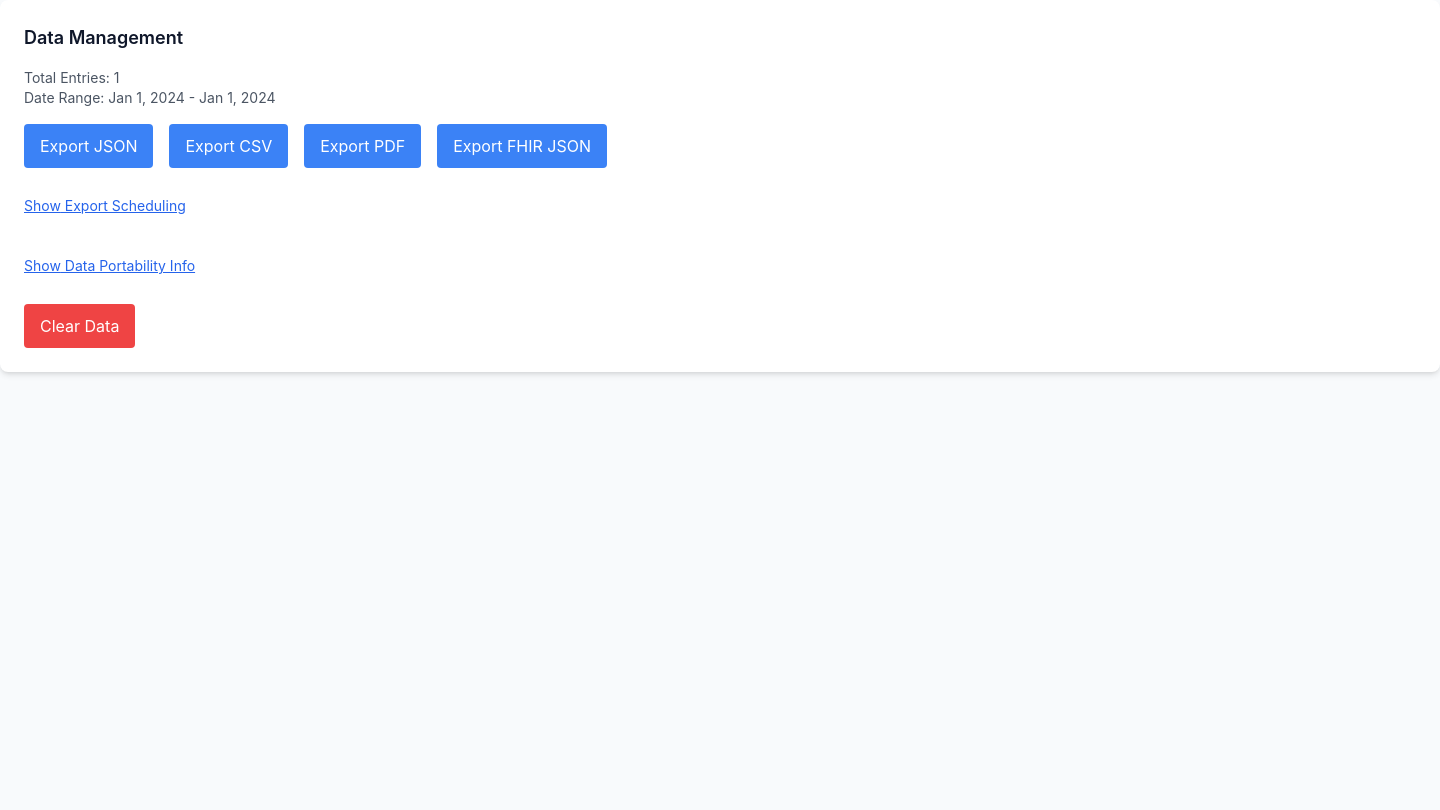
Scenario: SavePanel › hides confirmation dialog when cancelled
The image size is (1440, 810).
Click the button "Clear Data" at [80, 326], box [24,304,135,348]
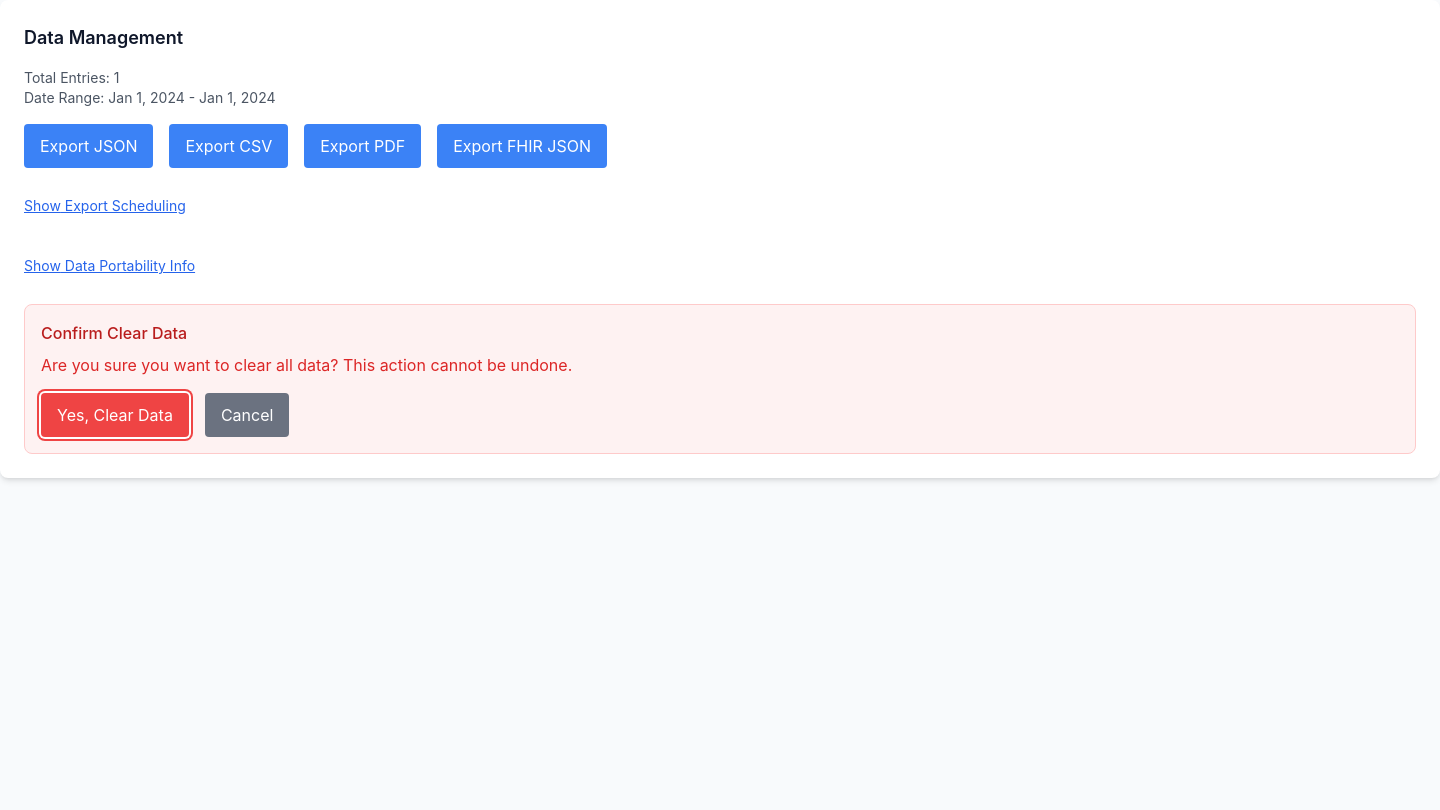
Click the button "Cancel" at [247, 415], box [205,393,289,437]
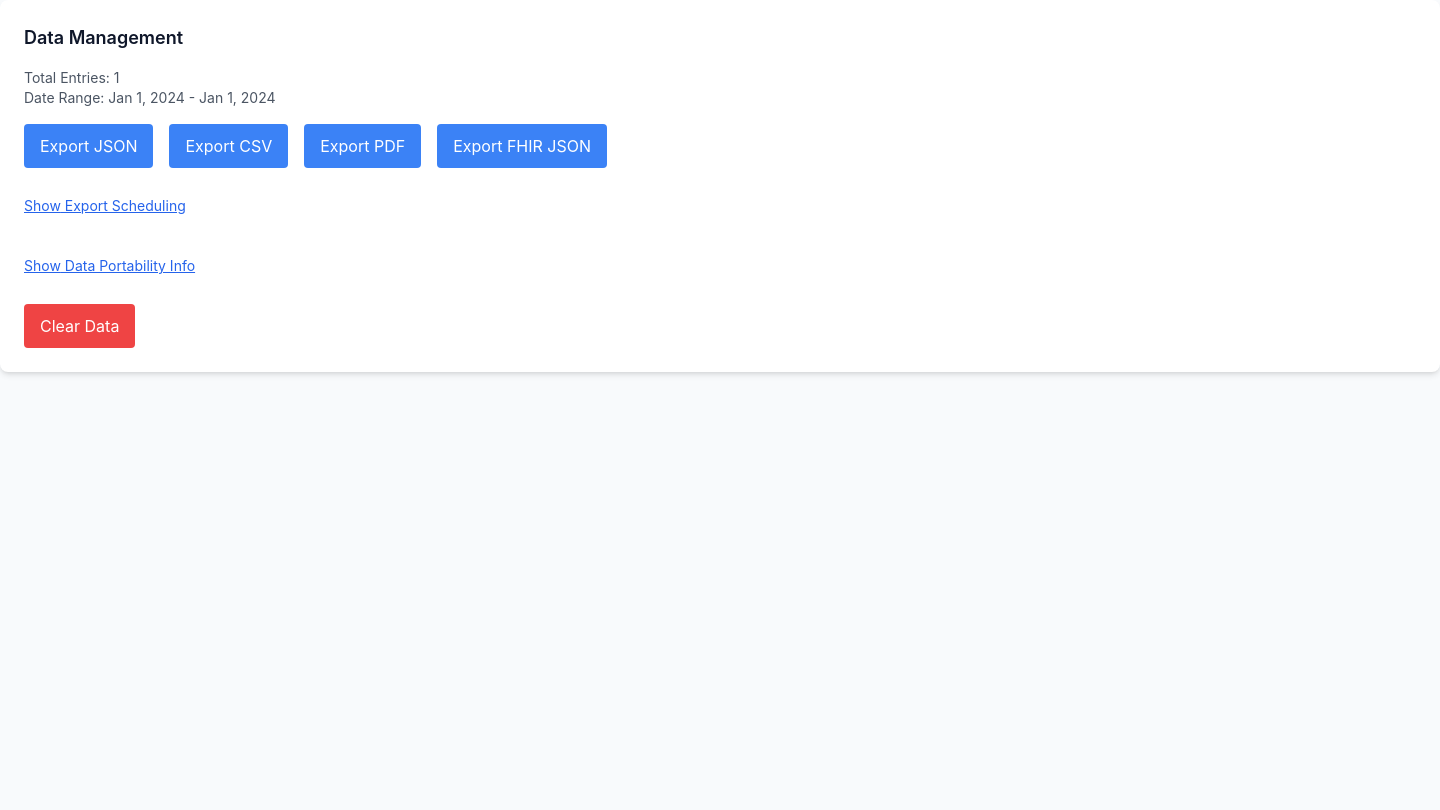
Expected: the text "Are you sure you want to clear all data? This action cannot be undone." is gone
